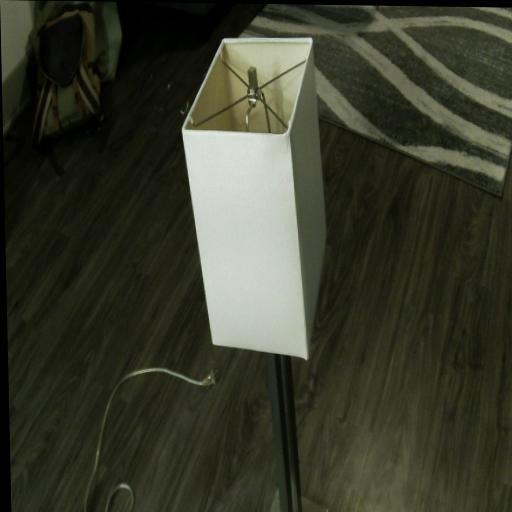lamp: (180, 36, 333, 512)
